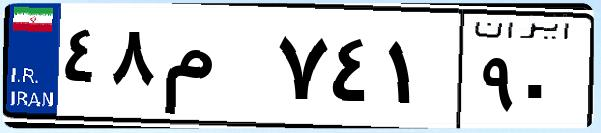0: (525, 38, 570, 115)
1: (385, 28, 445, 110)
4: (330, 28, 385, 110), (57, 26, 110, 100)
7: (270, 28, 330, 110)
8: (110, 28, 158, 98)
9: (475, 38, 525, 113)
م: (158, 20, 270, 120)
